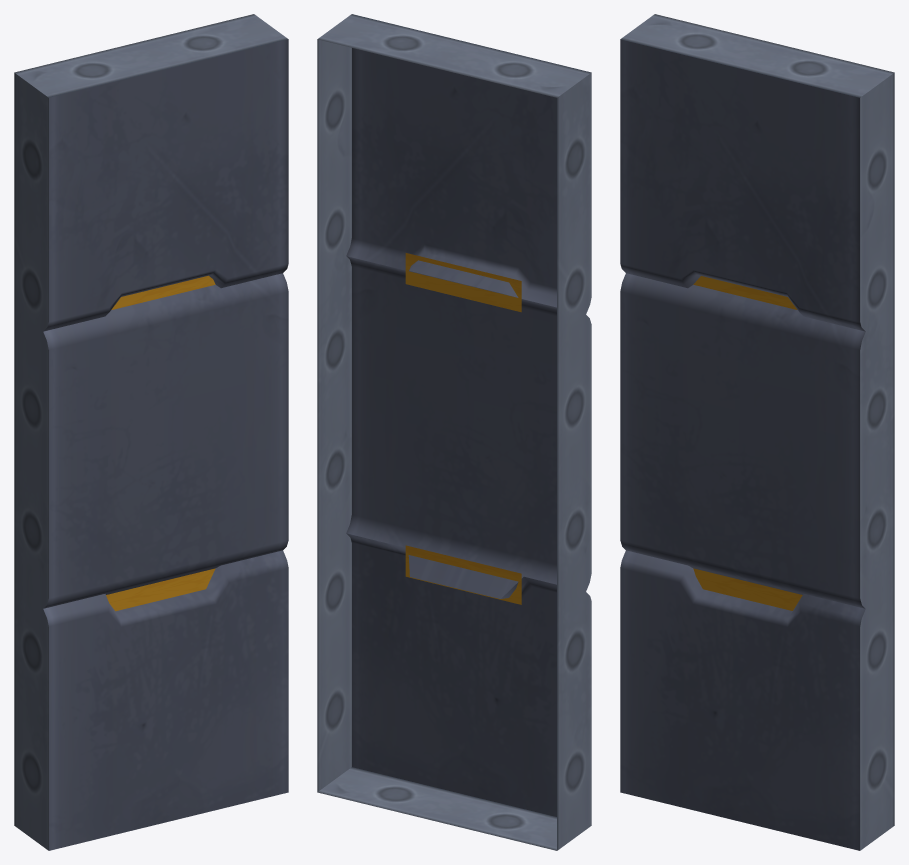
File: obj_spaceship_wall08.fbx
The picture shows the model from 3 angles, left to right: view 1: azimuth 30°, elevation 25°; view 2: azimuth 150°, elevation 25°; view 3: azimuth 330°, elevation 25°; orthographic projection.
Visible parts, largest first — view 1: pPlane4; view 2: pPlane4; view 3: pPlane4.
Boxes of the visible parts, <box> form: pPlane4: <box>14,14,288,850</box>; pPlane4: <box>317,14,591,850</box>; pPlane4: <box>620,14,894,850</box>.
Size of the model in its own units: 4 by 12 by 1.
